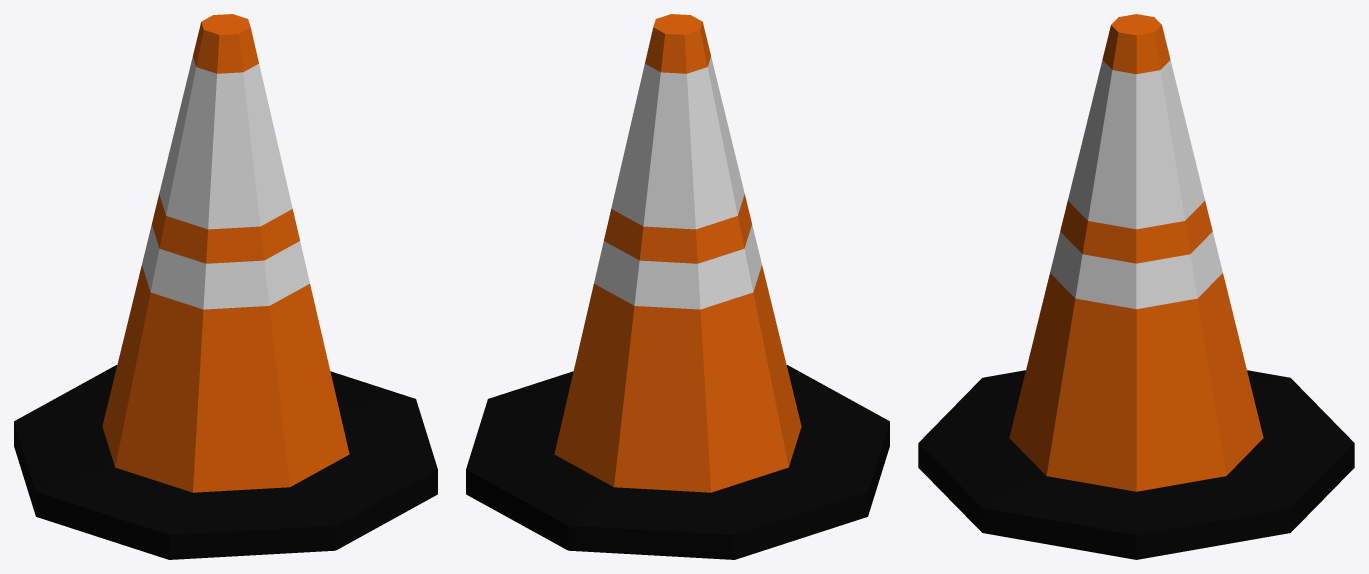
The model's file is Cono.fbx.
3 views of the same model, side by side, from view 1: azimuth 30°, elevation 25°; view 2: azimuth 150°, elevation 25°; view 3: azimuth 270°, elevation 25° (orthographic).
Visible parts, largest first — view 1: Cono; view 2: Cono; view 3: Cono.
Part boxes in pixels (x1=…): Cono: x1=14, y1=14, x2=437, y2=559; Cono: x1=466, y1=14, x2=889, y2=559; Cono: x1=918, y1=14, x2=1354, y2=559.
Bounding box in the file's own units: 2.4 × 2.69 × 2.4.
